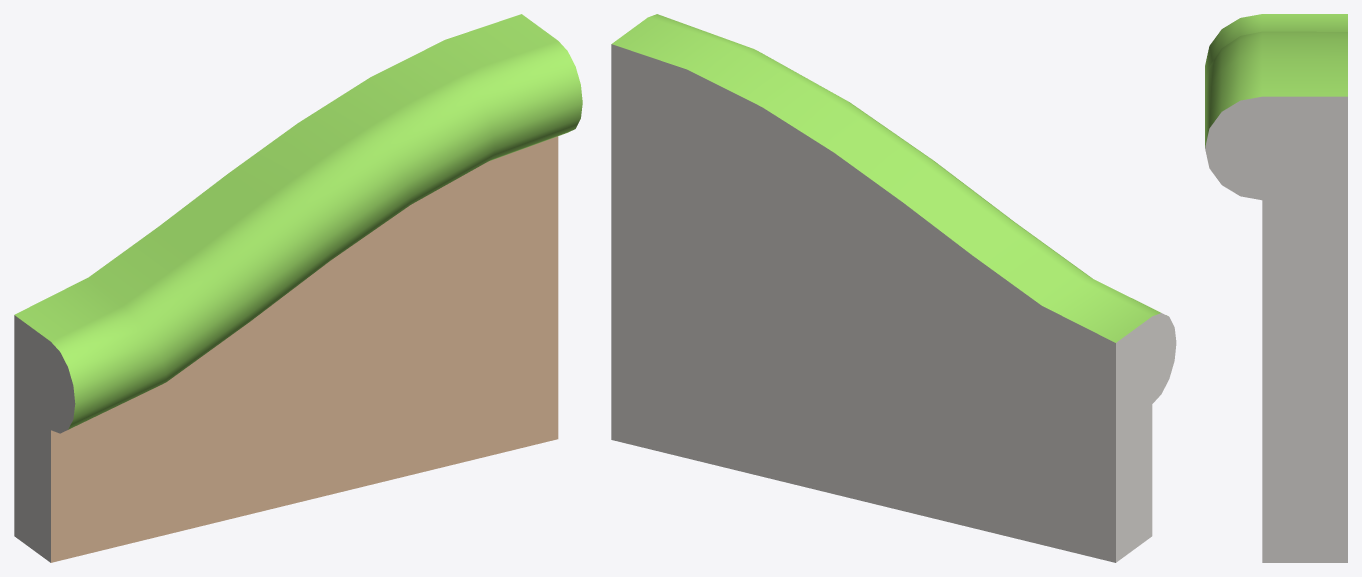
Rendered from inclineGrassPlatformEdge.glb.
3 views of the same model, side by side, from view 1: azimuth 30°, elevation 25°; view 2: azimuth 150°, elevation 25°; view 3: azimuth 270°, elevation 25° (orthographic). The views are drawn at different scales.
Parts seen in each view (by area): view 1: Dirt_Wall, Hidden; view 2: Hidden, Dirt_Wall; view 3: Hidden, Dirt_Wall.
Boxes of the visible parts, left/top/right/bottom form: Dirt_Wall: left=14, top=14, right=582, bottom=562; Hidden: left=14, top=315, right=75, bottom=562; Hidden: left=611, top=44, right=1176, bottom=562; Dirt_Wall: left=612, top=14, right=1166, bottom=342; Hidden: left=1205, top=96, right=1347, bottom=562; Dirt_Wall: left=1205, top=14, right=1347, bottom=147.
Bounding box in the file's own units: 3 × 2.25 × 0.625.
